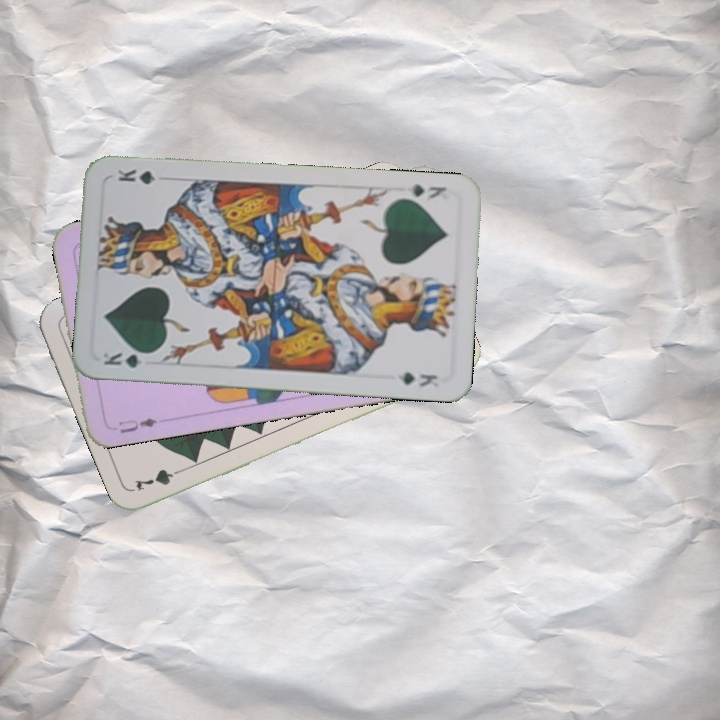EU: (114, 414, 160, 436)
G7: (130, 463, 189, 494)
GK: (99, 348, 156, 370), (407, 180, 449, 203)
